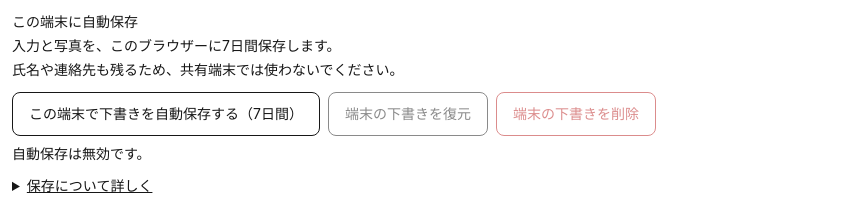
Test: failed autosave cannot silently become an opted-off unfenced submission
This screenshot has width=866, height=210.
Click the button "この端末で下書きを自動保存する（7日間）": (166, 114) [12, 92, 320, 136]
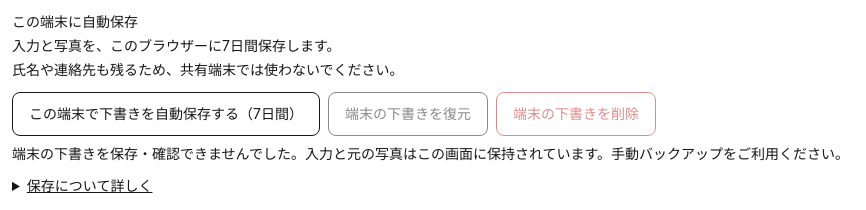
Expected: the text "端末の下書きを保存・確認できませんでした。入力と元の写真はこの画面に保持されています。手動バックアップをご利用ください。" is shown, [12, 145, 849, 162]
